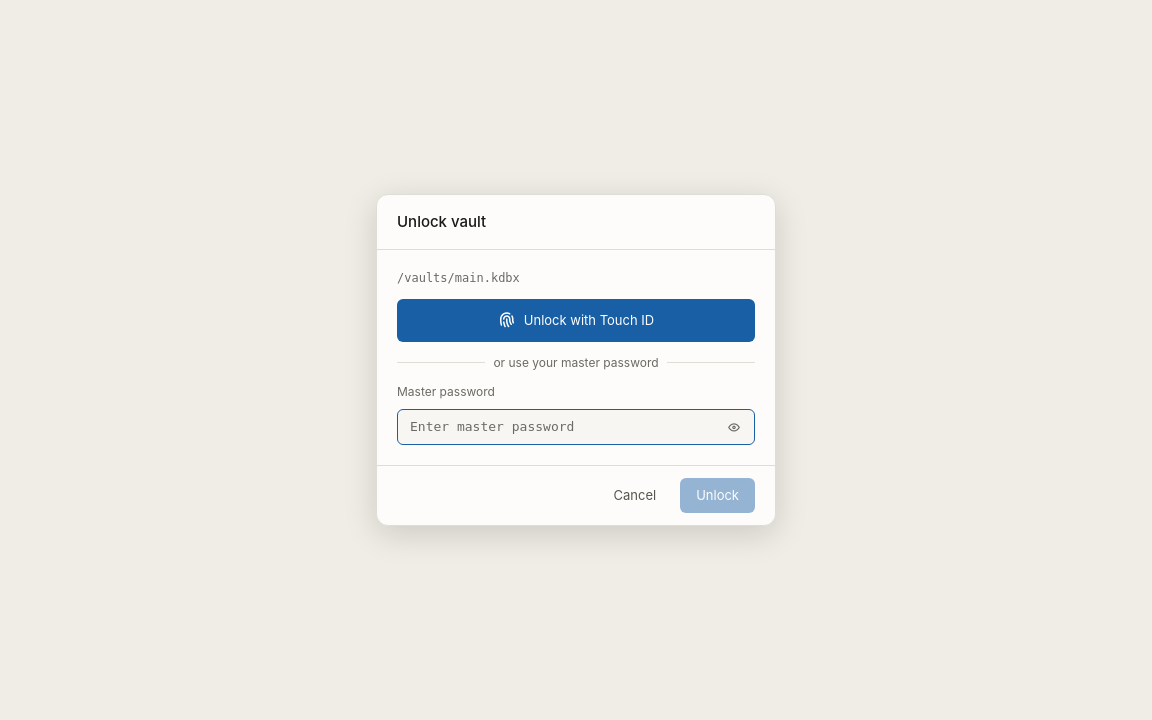
UnlockScreen › falls back immediately and removes a stale Touch ID action
Click the button "Unlock with Touch ID".
click(576, 320)  # box [397, 299, 755, 342]
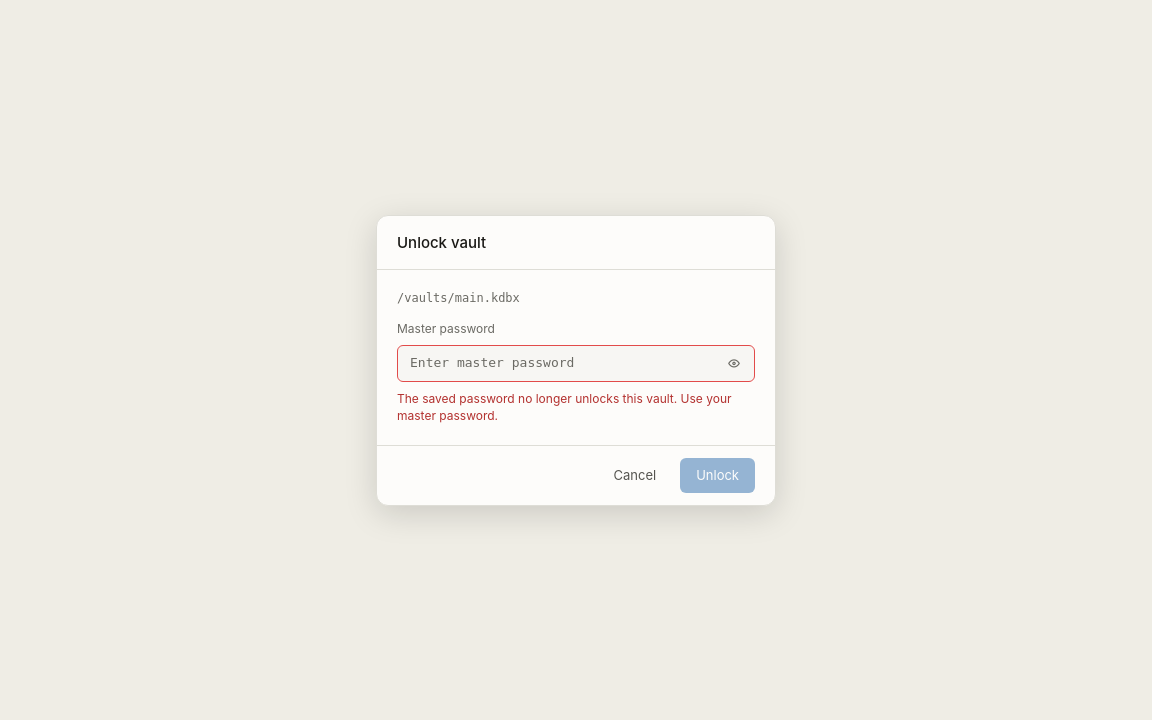
Expected: the password field labelled "Master password" is enabled, [397, 345, 755, 382]
Expected: the text "The saved password no longer unlocks this vault. Use your master password." is shown, [397, 390, 755, 425]
Expected: the button "Unlock with Touch ID" is gone
